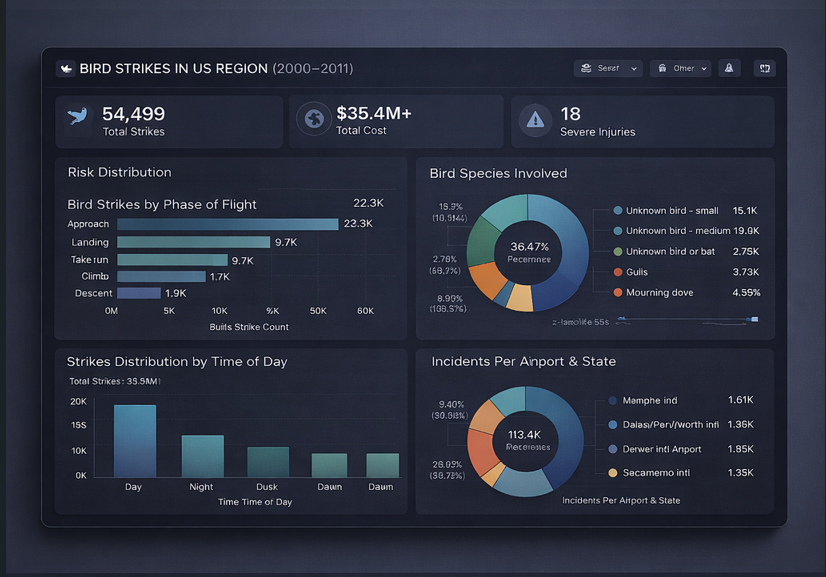

The dashboard page shown, as its layout file describes it:
{"tool":"powerbi","page":{"name":"Operational & Risk Insights – Wildlife Strike Breakdown","canvas":[1280,720],"ordinal":1},"visuals":[{"type":"textbox","box":[16.9,15.4,1249.2,690.8],"z":0},{"type":"slicer","fields":{"Values":["Strikes.Date.Variation.Date Hierarchy.Year"]},"box":[655.7,86.1,144.3,72.2],"z":1000},{"type":"slicer","fields":{"Values":["Strikes.Aircraft: Airline/Operator"]},"box":[370.8,286.2,176.9,75.4],"z":2000},{"type":"clusteredBarChart","title":"Bird Strikes by Phase of Flight","fields":{"Category":["Strikes.When: Phase of flight"],"Y":["CountNonNull(Strikes.Record ID)"]},"box":[27.5,80,612.5,313.8],"z":3000},{"type":"clusteredColumnChart","title":"Strikes Distribution by Time of Day","fields":{"Category":["Strikes.When: Time of day"],"Y":["CountNonNull(Strikes.Record ID)"]},"box":[29.2,396.9,612.3,292.3],"z":4000},{"type":"donutChart","title":"Bird Species Involved","fields":{"Category":["Strikes.Wildlife: Species"],"Y":["CountNonNull(Strikes.Record ID)"]},"box":[655.7,172.2,593.7,221.5],"z":5000},{"type":"pieChart","title":"Incidents Per Airport & State","fields":{"Category":["Strikes.Airport: Name"],"Y":["CountNonNull(Strikes.Record ID)"],"Series":["Strikes.State"]},"box":[655,397.5,593.8,291.2],"z":6000},{"type":"multiRowCard","fields":{"Values":["Strikes.Total Strikes","Strikes.Severe Injuries"]},"box":[655.4,21.5,593.8,58.5],"z":7000},{"type":"slicer","fields":{"Values":["Strikes.Altitude bin"]},"box":[803.8,86.1,287.3,72.2],"z":8000},{"type":"slicer","fields":{"Values":["Strikes.Wildlife: Size"]},"box":[1098.7,86.1,150.6,72.2],"z":9000}]}

Visuals, with their boxes on the page's 1280x720 design canvas (x1, y1, x2, y2). These are canvas units, not pixel positions in the 826x577 screenshot, which may show the page scaled, cropped or inside an application window:
textbox: 17, 15, 1266, 706
slicer - Strikes.Date.Variation.Date Hierarchy.Year: 656, 86, 800, 158
slicer - Strikes.Aircraft: Airline/Operator: 371, 286, 548, 362
"Bird Strikes by Phase of Flight" clusteredBarChart: 28, 80, 640, 394
"Strikes Distribution by Time of Day" clusteredColumnChart: 29, 397, 642, 689
"Bird Species Involved" donutChart: 656, 172, 1249, 394
"Incidents Per Airport & State" pieChart: 655, 398, 1249, 689
multiRowCard - Strikes.Total Strikes x Strikes.Severe Injuries: 655, 22, 1249, 80
slicer - Strikes.Altitude bin: 804, 86, 1091, 158
slicer - Strikes.Wildlife: Size: 1099, 86, 1249, 158
